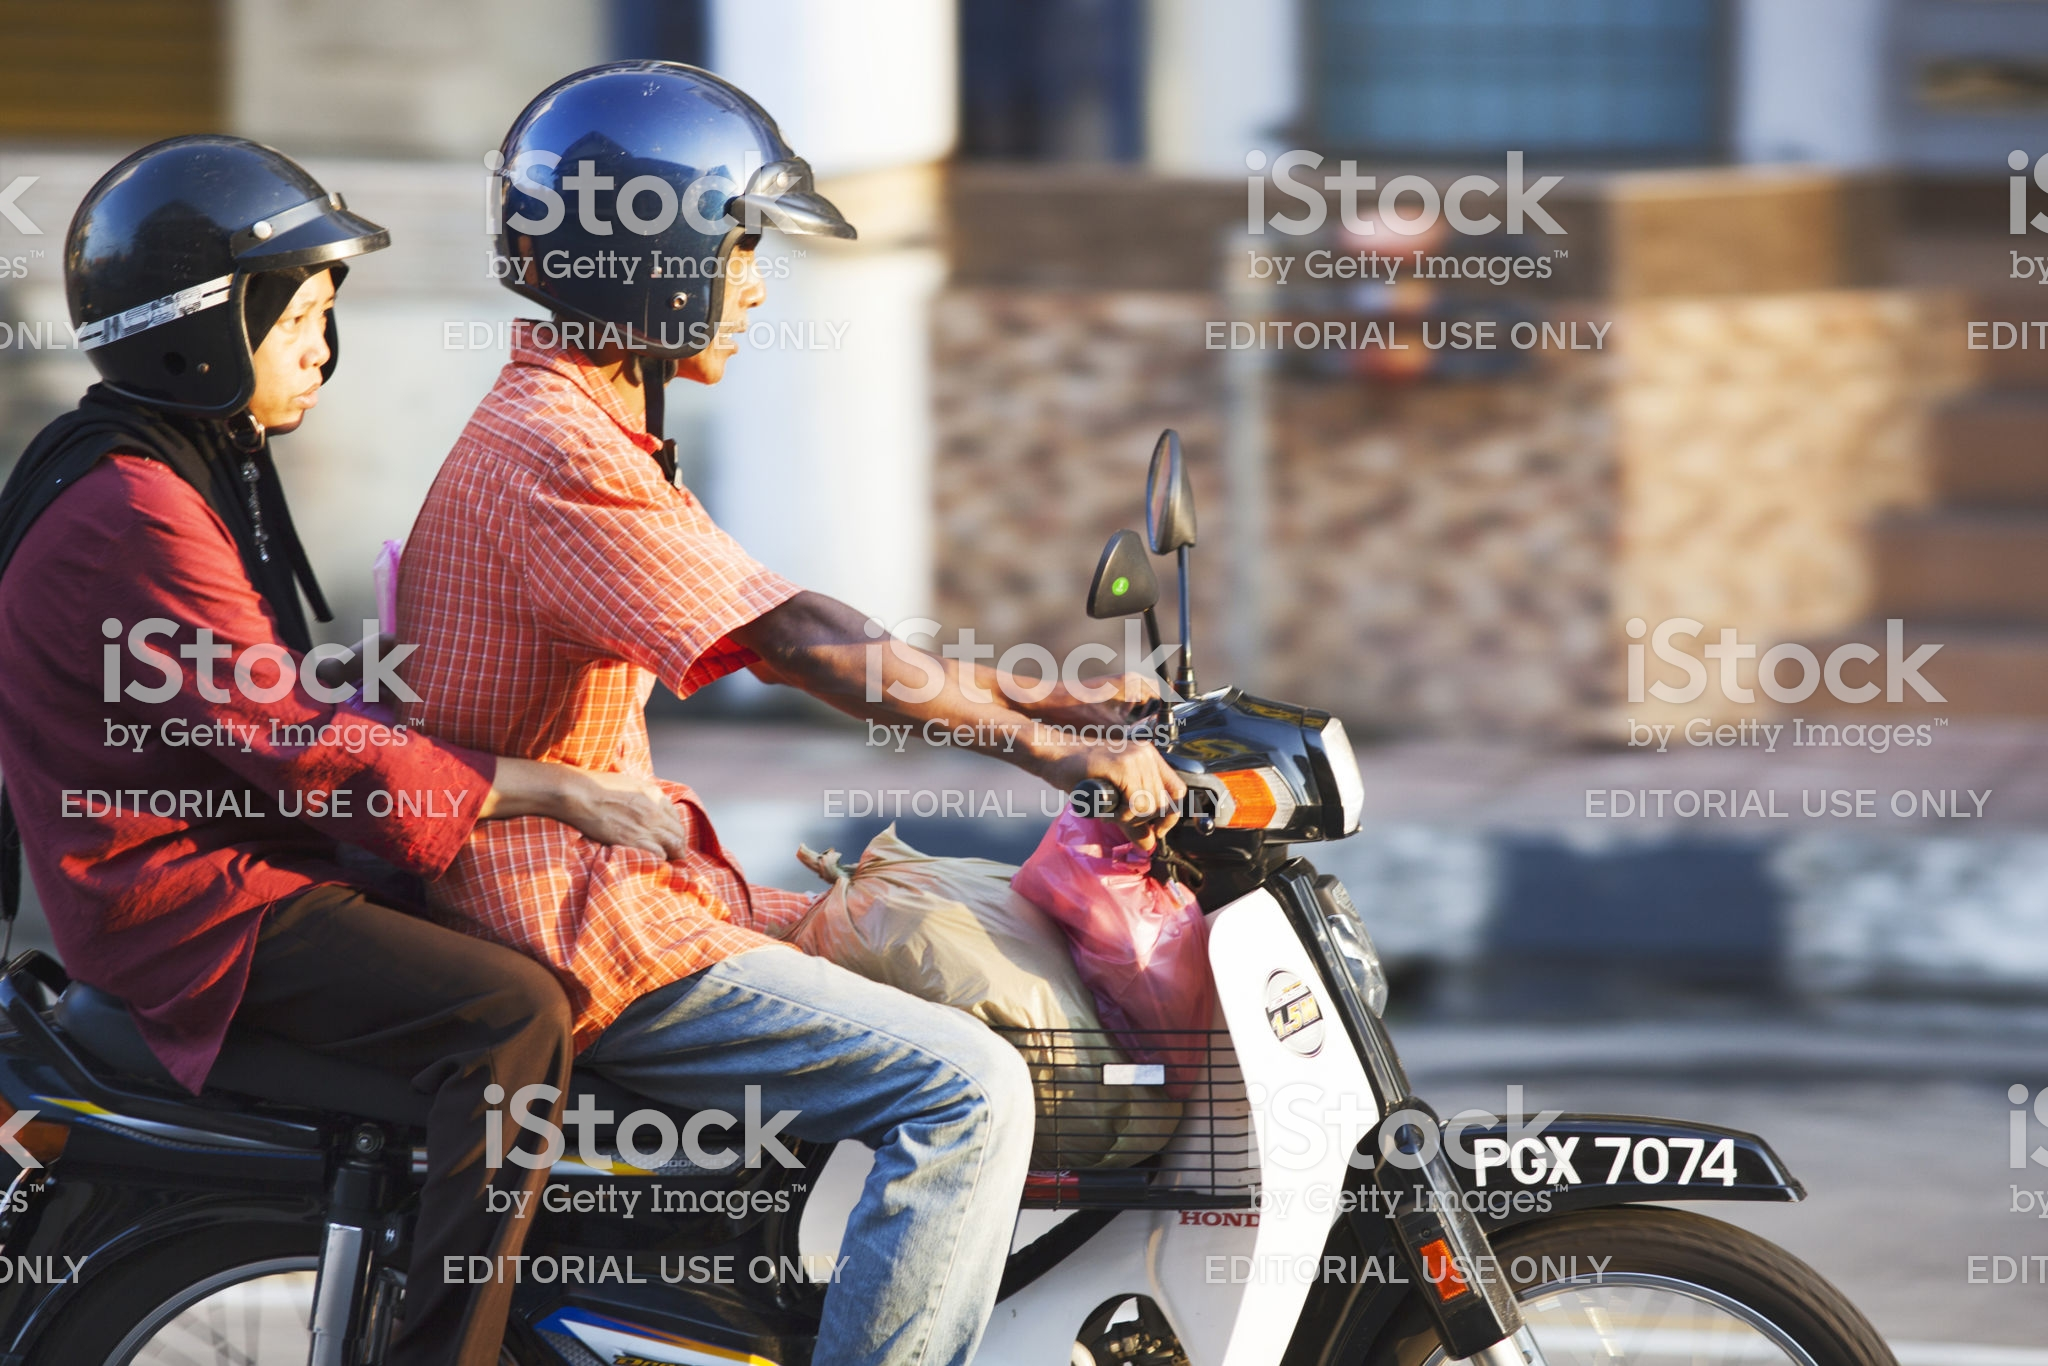helmet: (21, 117, 384, 418), (485, 67, 838, 322)
